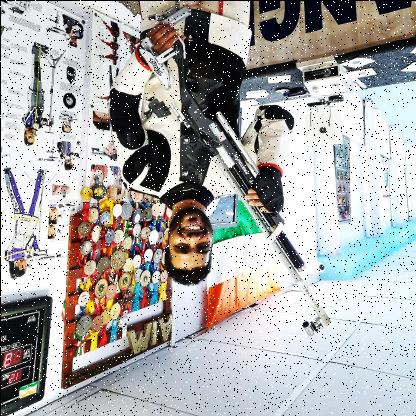rifle: (136, 0, 332, 338)
